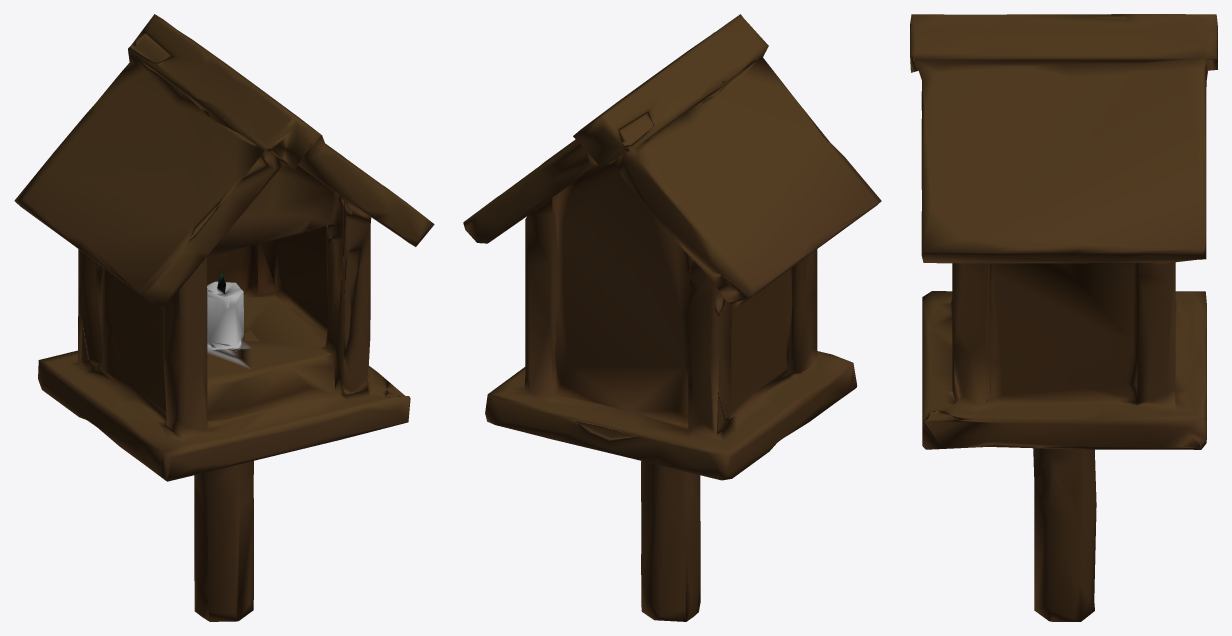
Rendered from gen3d-forest-shrine-lod0.glb.
3 views of the same model, side by side, from view 1: azimuth 30°, elevation 25°; view 2: azimuth 150°, elevation 25°; view 3: azimuth 270°, elevation 25° (orthographic). The views are drawn at different scales.
Parts seen in each view (by area): view 1: part_0; view 2: part_0; view 3: part_0.
Boxes of the visible parts, x1,y1,x2,y2 form: part_0: (14, 14, 434, 621); part_0: (463, 14, 881, 621); part_0: (910, 14, 1217, 621).
Size of the model in its own units: 0.5589 by 0.9999 by 0.4674.
